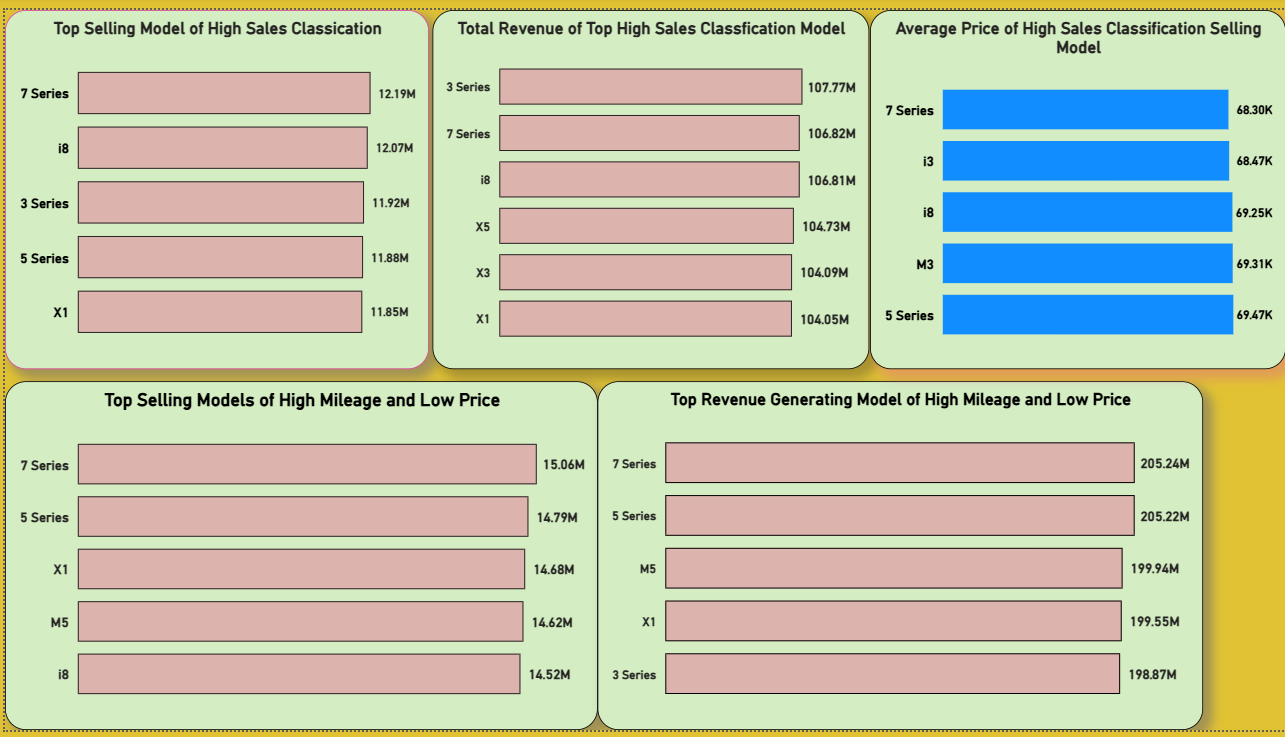

This screenshot's page, from the dashboard's own definition file:
{"tool":"powerbi","page":{"name":"7 Series","canvas":[1280,720],"ordinal":1},"visuals":[{"type":"barChart","title":"Top Selling Model of High Sales Classication","fields":{"Category":["BMW_sales_data_2010_2014.Model"],"Y":["Sum(BMW_sales_data_2010_2014.Sales_Volume)"]},"box":[0,0,424,359.5],"z":0},{"type":"barChart","title":"Total Revenue of Top High Sales Classfication Model","fields":{"Category":["BMW_sales_data_2010_2014.Model"],"Y":["Sum(BMW_sales_data_2010_2014.Price_USD)"]},"box":[428,0,436.6,359.5],"z":1000},{"type":"barChart","title":"Top Selling Models of High Mileage and Low Price","fields":{"Category":["BMW_sales_data_2010_2014.Model"],"Y":["BMW_sales_data_2010_2014.mileage sales"]},"box":[0,371.7,593.1,348.5],"z":2000},{"type":"barChart","title":"Top Revenue Generating Model of High Mileage and Low Price","fields":{"Category":["BMW_sales_data_2010_2014.Model"],"Y":["BMW_sales_data_2010_2014.mileage revenue"]},"box":[593.1,371.7,605.3,348.5],"z":3000},{"type":"barChart","title":"Average Price of High Sales Classification Selling Model","fields":{"Category":["BMW_sales_data_2010_2014.Model"],"Y":["BMW_sales_data_2010_2014.avg price"],"Series":["BMW_sales_data_2010_2014.Sales_Classification"]},"box":[864.5,0,415.8,359.5],"z":4000}]}

Visuals, with their boxes in screenshot pixels (x1, y1, x2, y2), scaled from the page's 1280x720 canvas onto the 1285x737 screenshot:
"Top Selling Model of High Sales Classication" barChart: <box>0,0,426,368</box>
"Total Revenue of Top High Sales Classfication Model" barChart: <box>430,0,868,368</box>
"Top Selling Models of High Mileage and Low Price" barChart: <box>0,380,595,736</box>
"Top Revenue Generating Model of High Mileage and Low Price" barChart: <box>595,380,1203,736</box>
"Average Price of High Sales Classification Selling Model" barChart: <box>868,0,1284,368</box>
